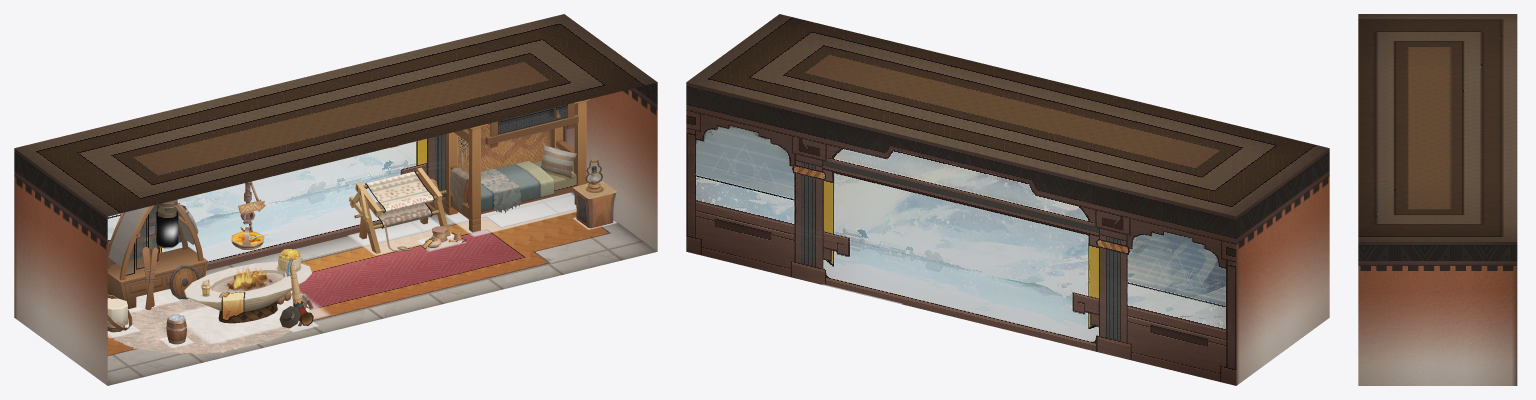
File: stage.glb
The picture shows the model from 3 angles, left to right: view 1: azimuth 30°, elevation 25°; view 2: azimuth 150°, elevation 25°; view 3: azimuth 270°, elevation 25°; orthographic projection. The views are drawn at different scales.
Visible parts, largest first — view 1: ROOM_room, ROOM_floor, furni_stage_bed_01, furni_stage_cabinet_01, furni_stage_carpet_01, furni_stage_table_01, furni_stage_bed_02, shadow.004, furni_stage_textileMachine_01, furni_stage_textileMachine_02, shadow.006, furni_stage_bedsideTable_01 (+9 smaller); view 2: ROOM_room, ROOM_LDoor; view 3: ROOM_room, ROOM_RDoor.
Boxes of the visible parts, x1,y1,x2,y2 form: ROOM_room: (14, 14, 657, 385); ROOM_floor: (107, 192, 657, 385); furni_stage_bed_01: (445, 99, 589, 232); furni_stage_cabinet_01: (107, 202, 207, 309); furni_stage_carpet_01: (108, 289, 309, 354); furni_stage_table_01: (184, 249, 313, 328); furni_stage_bed_02: (450, 107, 557, 213); shadow.004: (175, 291, 330, 344); furni_stage_textileMachine_01: (349, 167, 466, 253); furni_stage_textileMachine_02: (365, 171, 434, 248); shadow.006: (446, 192, 576, 236); furni_stage_bedsideTable_01: (573, 159, 616, 228); ROOM_room: (686, 14, 1329, 385); ROOM_LDoor: (1297, 251, 1315, 341); ROOM_room: (1358, 14, 1517, 385); ROOM_RDoor: (1381, 320, 1414, 385).
Size of the model in its own units: 7.48 by 2.2 by 2.26.
7 materials, 7 textured.
